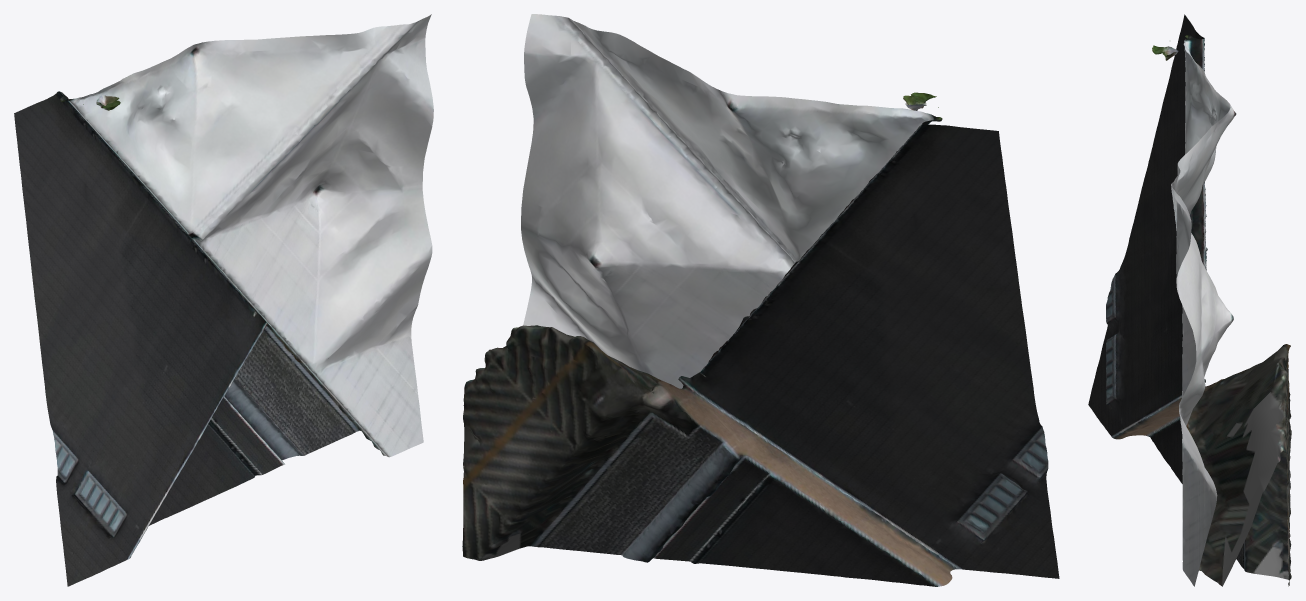
File: Tile_+013_+012.fbx
The picture shows the model from 3 angles, left to right: view 1: azimuth 30°, elevation 25°; view 2: azimuth 150°, elevation 25°; view 3: azimuth 270°, elevation 25°; orthographic projection. The views are drawn at different scales.
Visible parts, largest first — view 1: DefaultName; view 2: DefaultName; view 3: DefaultName.
Part boxes in pixels (x1,y1,x2,y2): DefaultName: [14, 14, 433, 586]; DefaultName: [462, 14, 1059, 586]; DefaultName: [1088, 14, 1291, 586].
Size of the model in its own units: 22.54 by 22.54 by 10.63.
